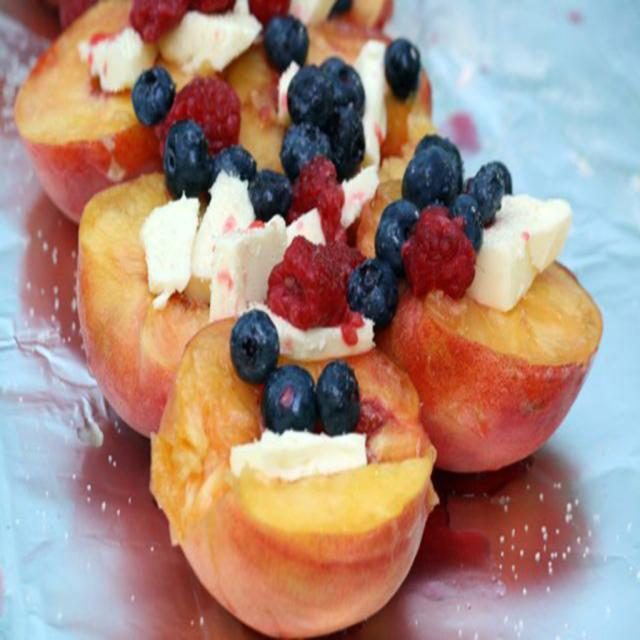Peach: (10, 0, 602, 638)
